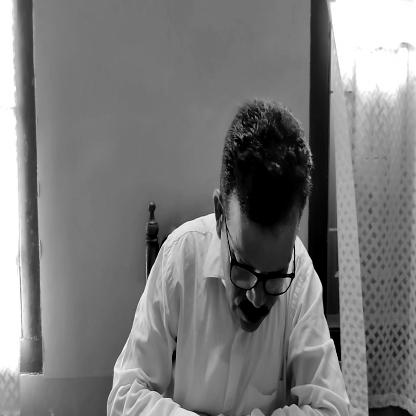Normal: (219, 101, 307, 334)
